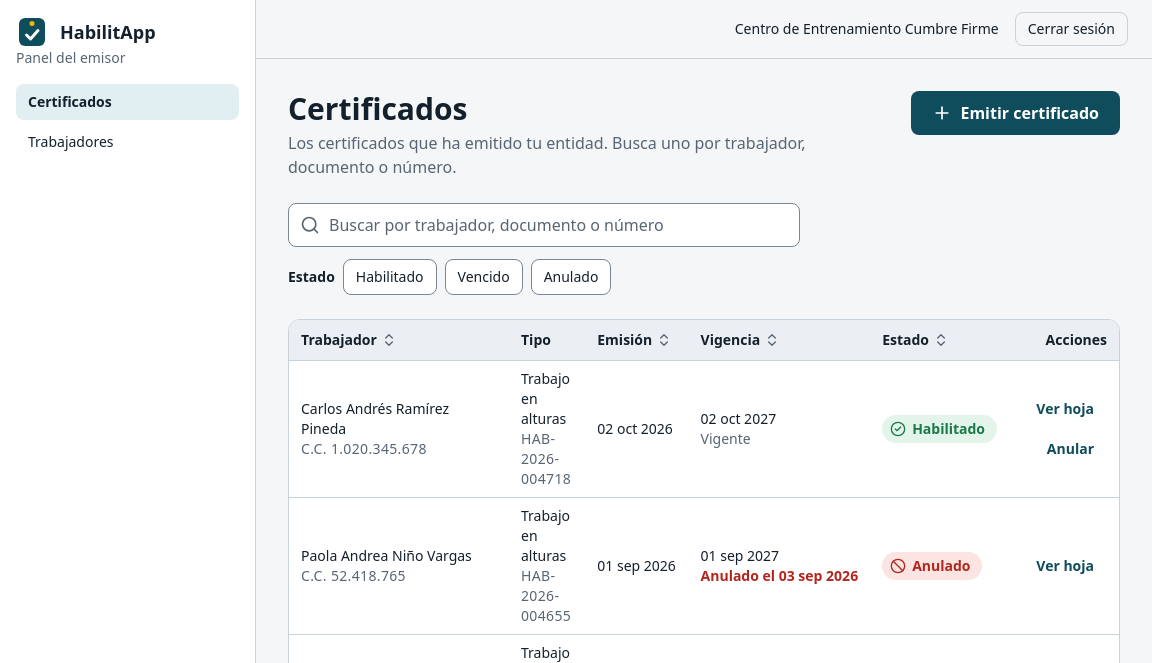
Test case: CertificatesPage › annulling › says it was already annulled inside the dialog and refreshes the list on a 409
Click the button with aria-label "Anular el certificado HAB-2026-004718" at [1070, 448], box [1034,430,1107,466]
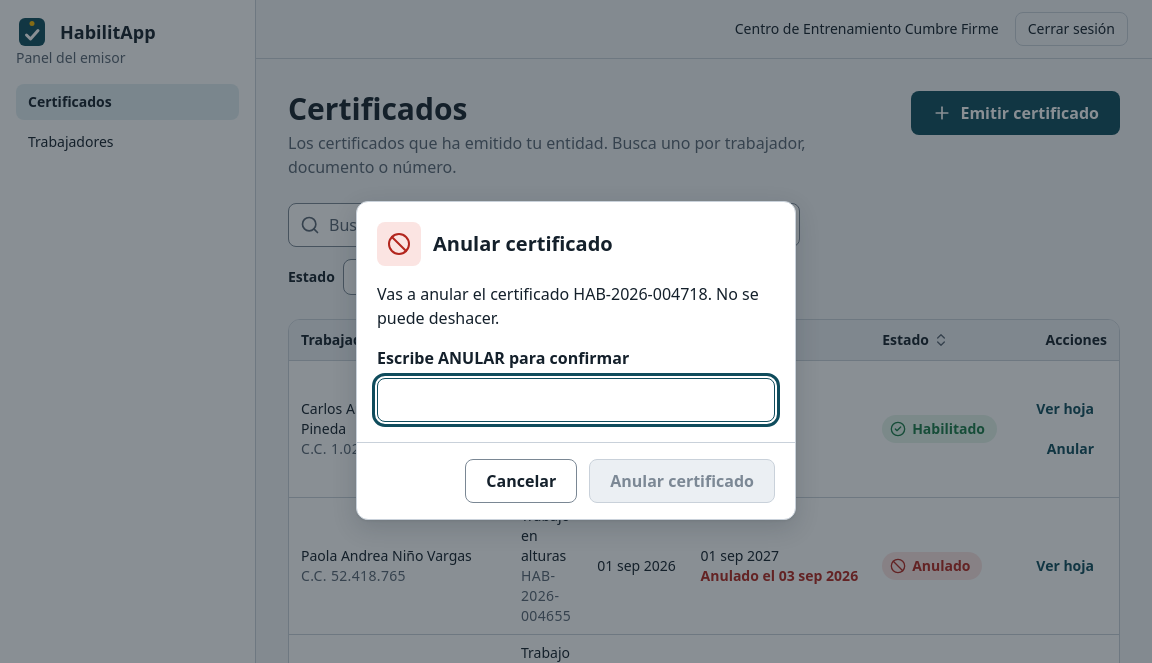
Type "anular" into the field labelled "Escribe ANULAR para confirmar" at [576, 400], box [377,378,775,422]
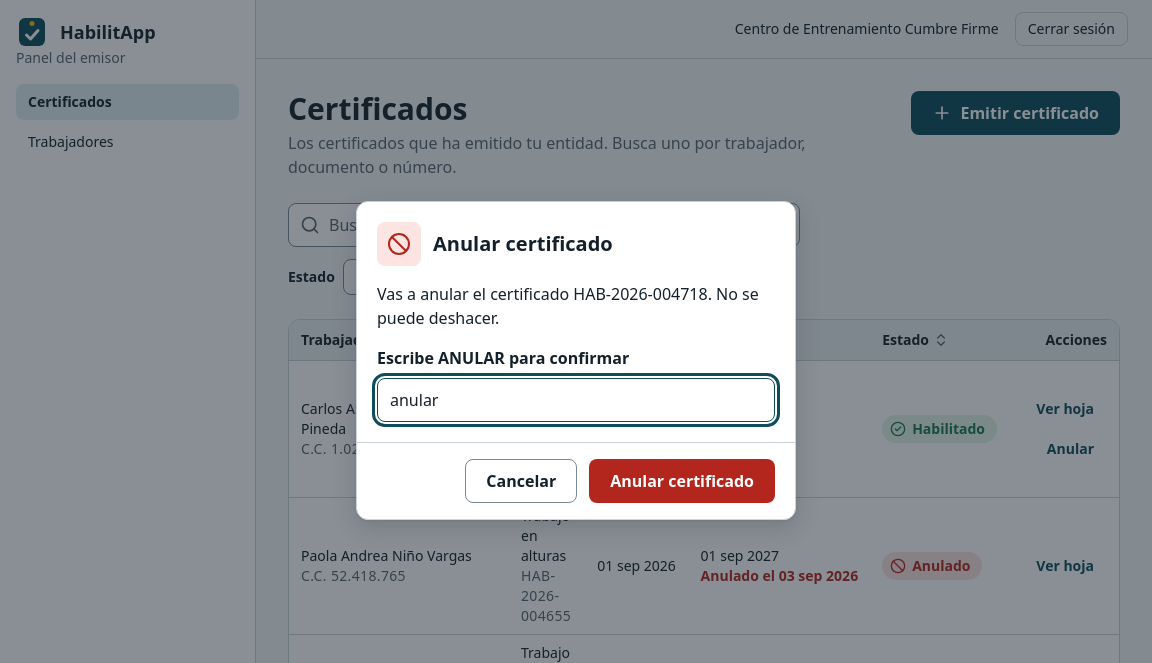
Click the button "Anular certificado" at [682, 480], box [589,458,775,502]
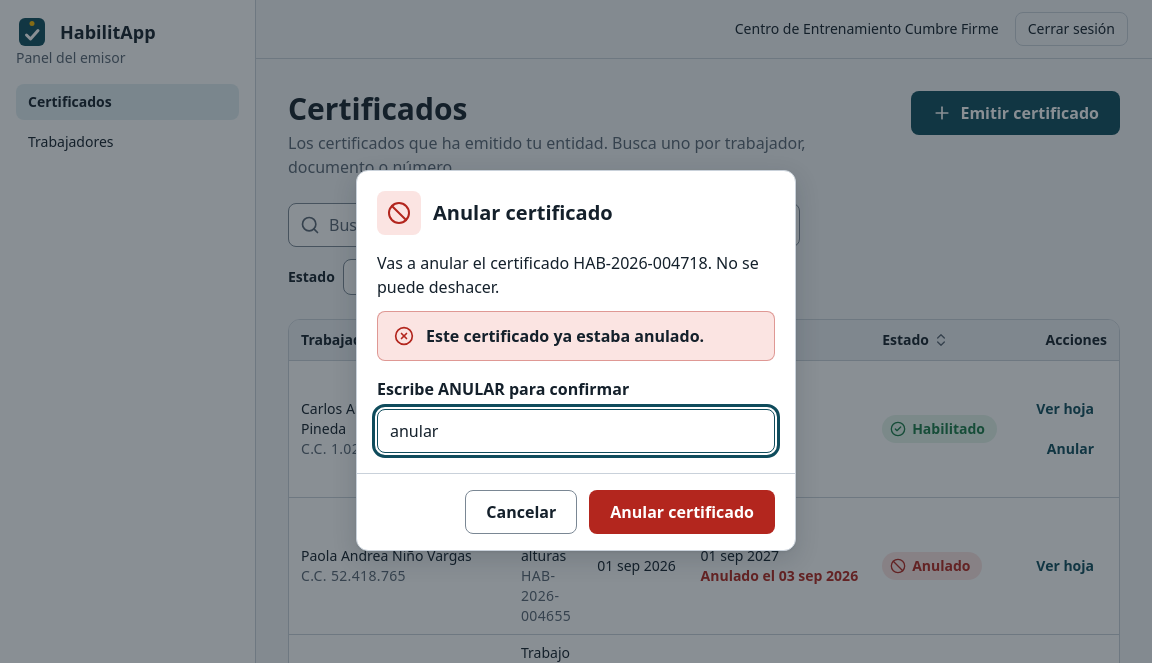
Expected: the message reads "Este certificado ya estaba anulado.", [426,324,704,346]
